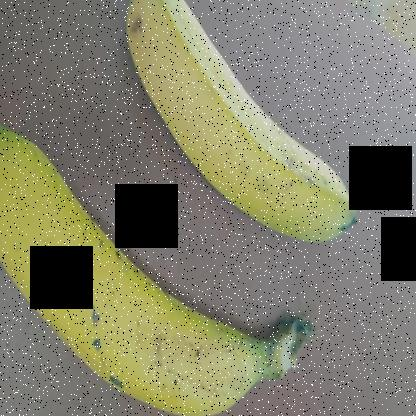freshripe: (113, 0, 367, 254)
ripe: (0, 109, 300, 415)
